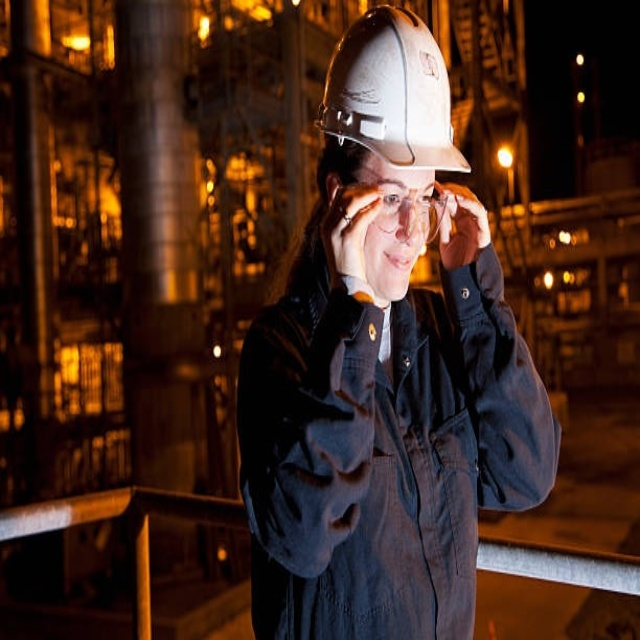Gafas: (337, 179, 445, 249)
Sin_guantes: (328, 173, 385, 279), (433, 173, 489, 262)
Sin_mascara: (382, 248, 415, 301)
